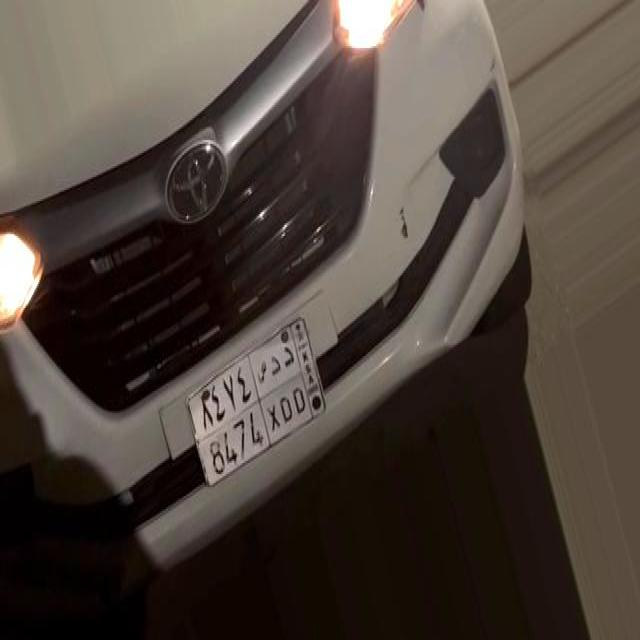Car-plate: (168, 286, 344, 513)
